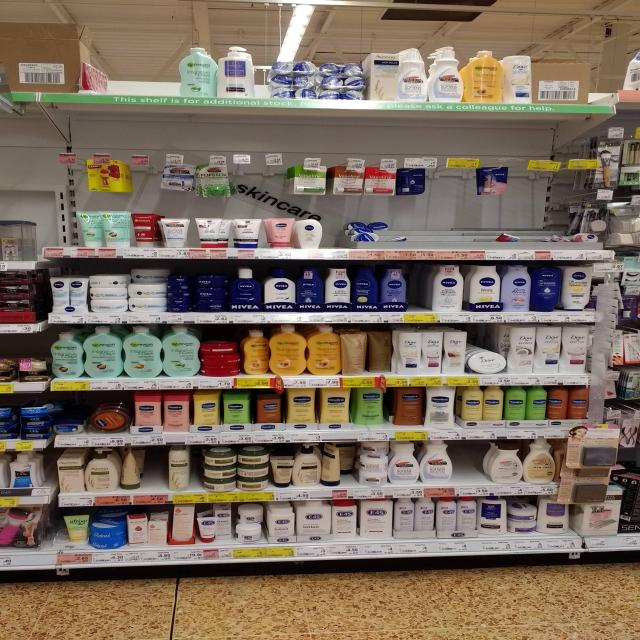empty_space: (108, 38, 174, 95), (456, 443, 481, 479)
